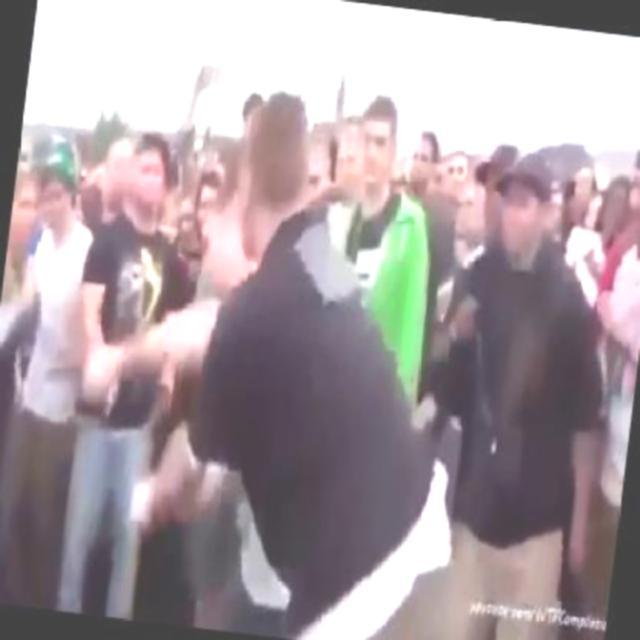fight: (80, 75, 458, 534)
